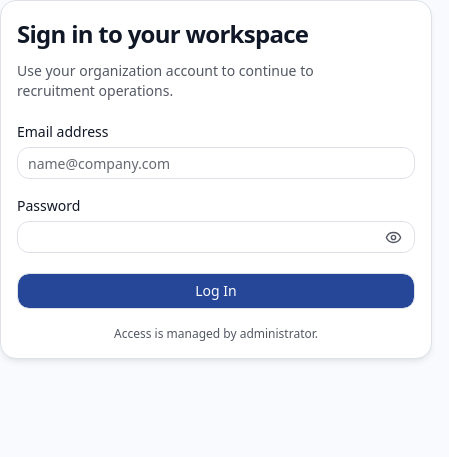
LoginForm › shows the approved authentication error message
The width and height of the screenshot is (449, 457).
Type "test@example.com" into the field labelled "Email address" at (216, 163), box [17,147,415,179]
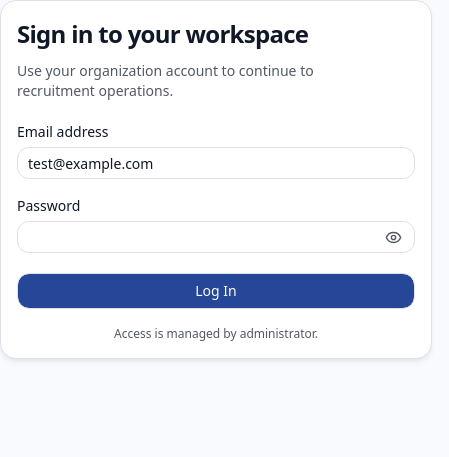
Type "password123" into the password field labelled "Password" at (216, 237), box [17,221,415,253]
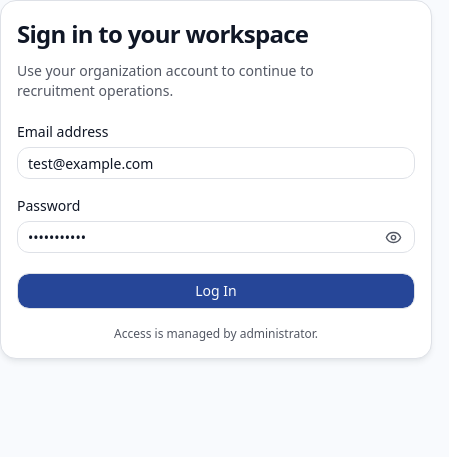
Click the button "Log In" at (216, 291), box [17,273,415,309]
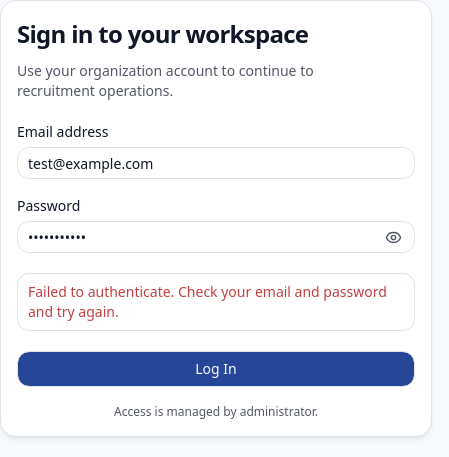
Expected: the text "Failed to authenticate. Check your email and password and try again." is shown, [28,282,404,322]
